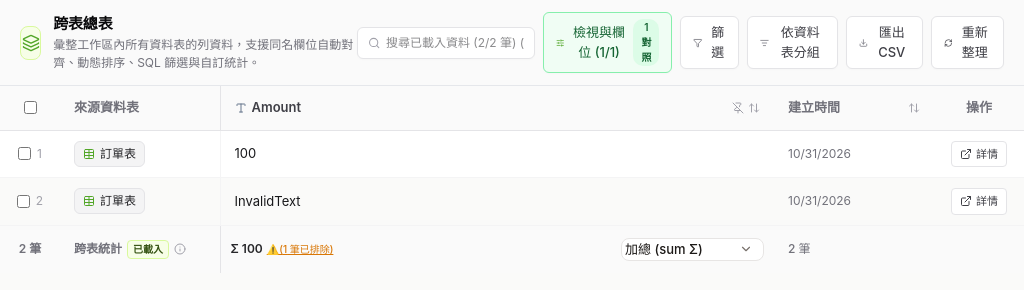
Test: MasterGridView UI Component › opens excluded mismatch popover and lists rows excluded from calculation
The width and height of the screenshot is (1024, 290).
// Click excluded mismatch indicator button
Click the button with test id "excluded-mismatch-indicator-Amount": (300, 250) x1=267 y1=242 x2=333 y2=257
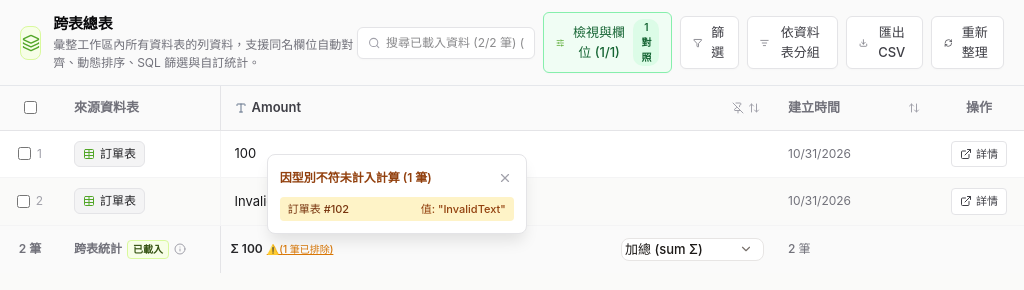
Now the element with test id "excluded-mismatch-popover-Amount" shows "因型別不符未計入計算", box x1=280 y1=170 x2=407 y2=185
Now the element with test id "excluded-mismatch-popover-Amount" shows "訂單表 #102", box x1=267 y1=154 x2=527 y2=234
Now the element with test id "excluded-mismatch-popover-Amount" shows "InvalidText", box x1=443 y1=202 x2=500 y2=216
